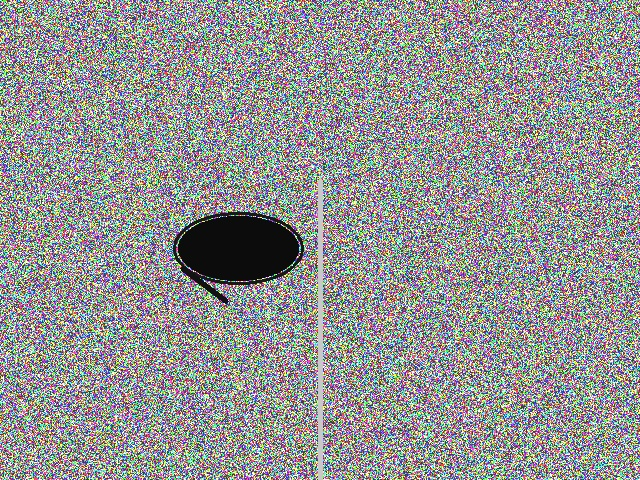crack: (176, 262, 232, 307)
pothole: (178, 216, 298, 280)
